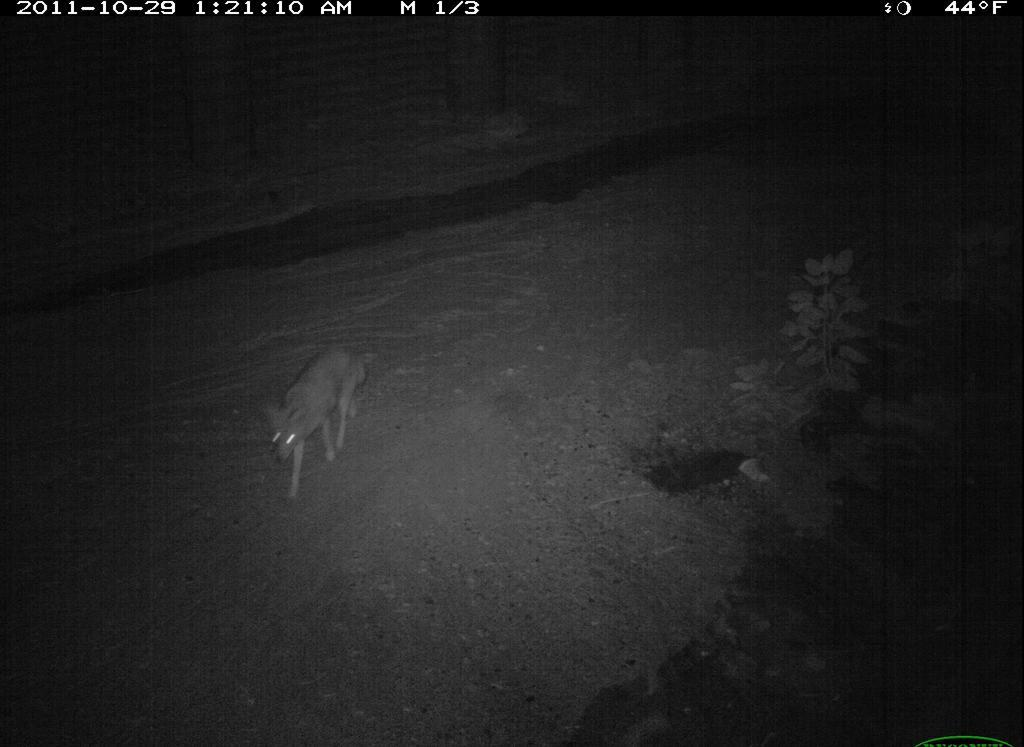coyote: (258, 336, 379, 514)
